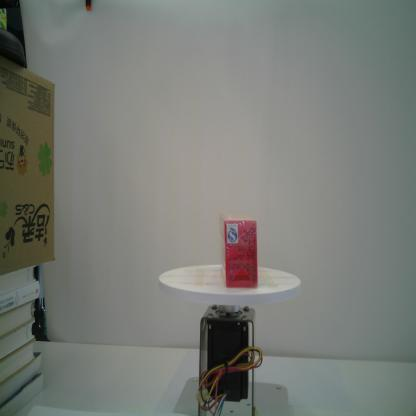Instant Drink: (219, 214, 257, 288)
